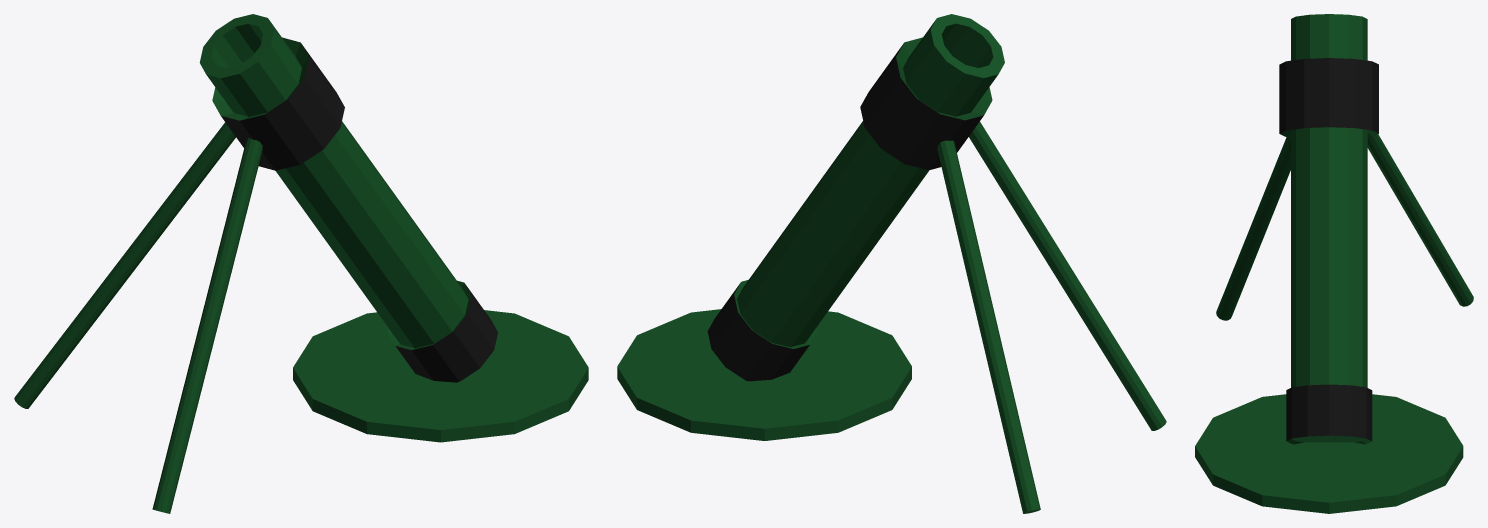
The model's file is mortar.fbx.
The picture shows the model from 3 angles, left to right: view 1: azimuth 30°, elevation 25°; view 2: azimuth 150°, elevation 25°; view 3: azimuth 270°, elevation 25°; orthographic projection. The views are drawn at different scales.
Visible parts, largest first — view 1: Cylinder; view 2: Cylinder; view 3: Cylinder.
Part boxes in pixels (left/top/right/bottom): Cylinder: left=14, top=14, right=588, bottom=513; Cylinder: left=617, top=14, right=1166, bottom=513; Cylinder: left=1195, top=14, right=1473, bottom=513.
Bounding box in the file's own units: 106 × 87.54 × 58.72.
